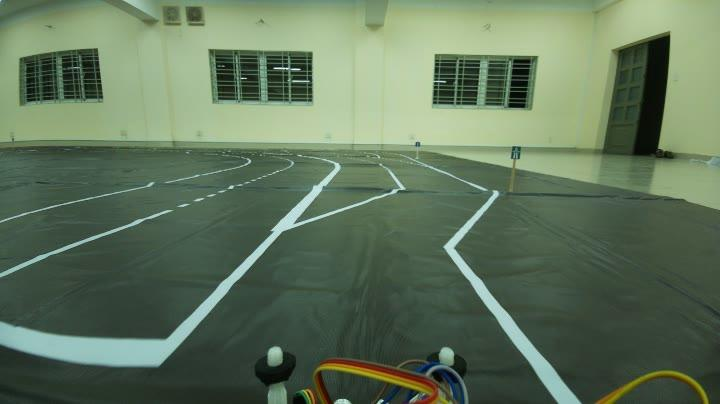highway_entry: (509, 140, 524, 163)
